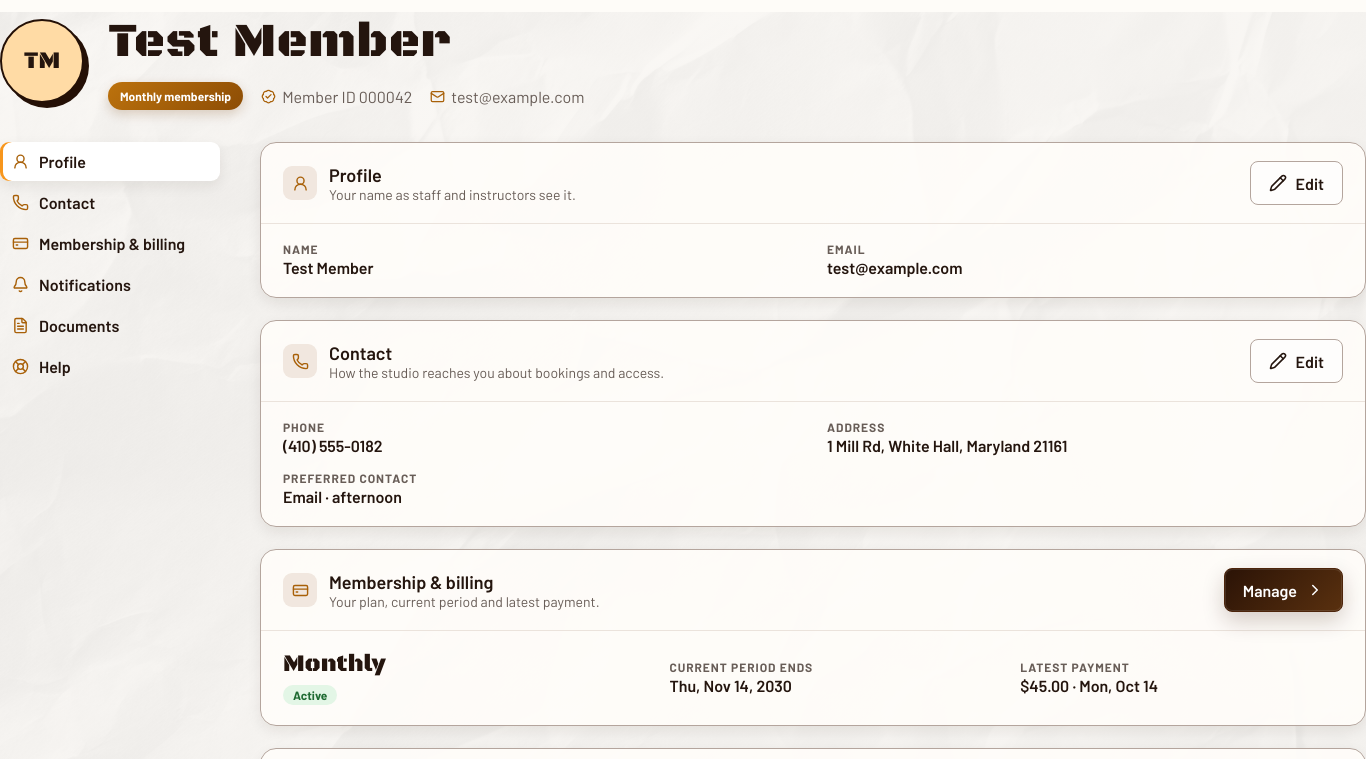
Test: a failed save keeps the form open with the error and claims nothing
Click the button with aria-label "Edit profile". click: (1296,183)
box: left=1250, top=161, right=1343, bottom=205
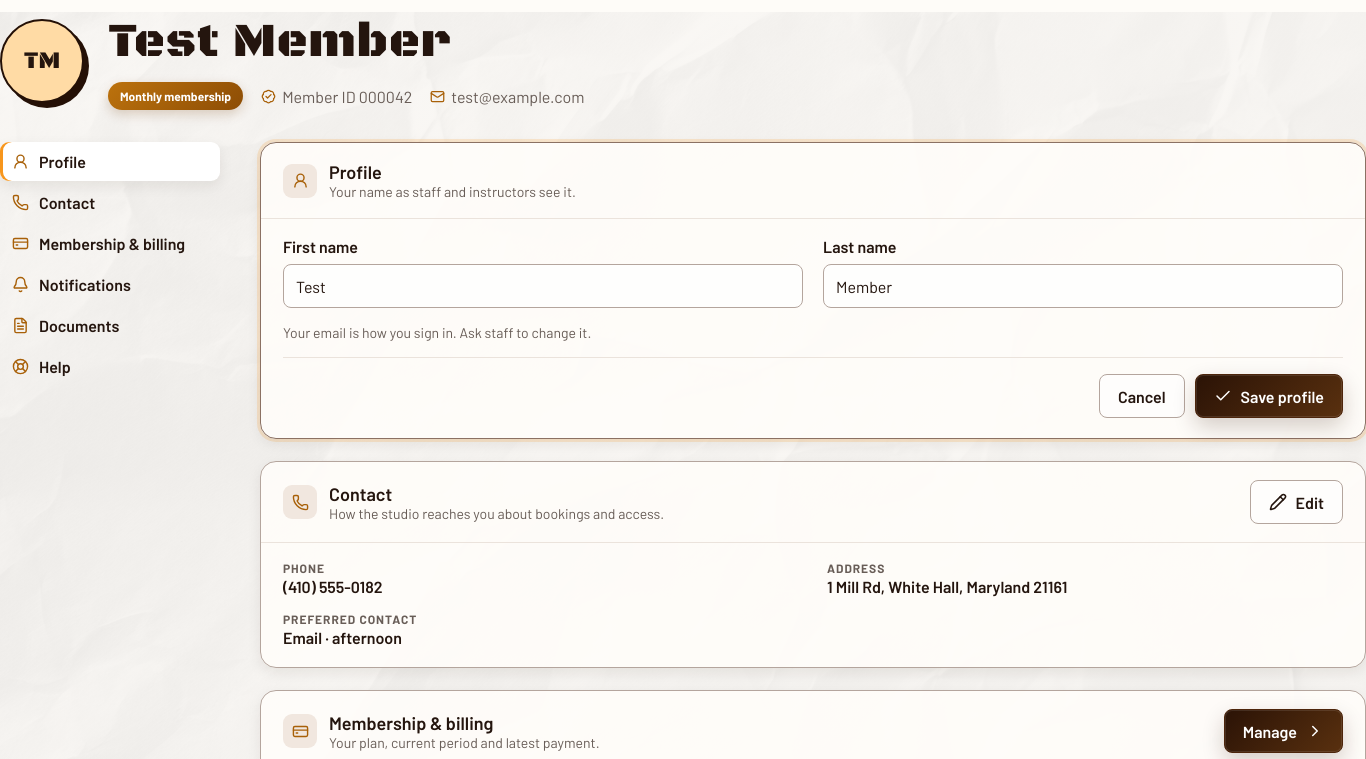
Click the button "Save profile". click: (1269,396)
box: left=1195, top=374, right=1343, bottom=418
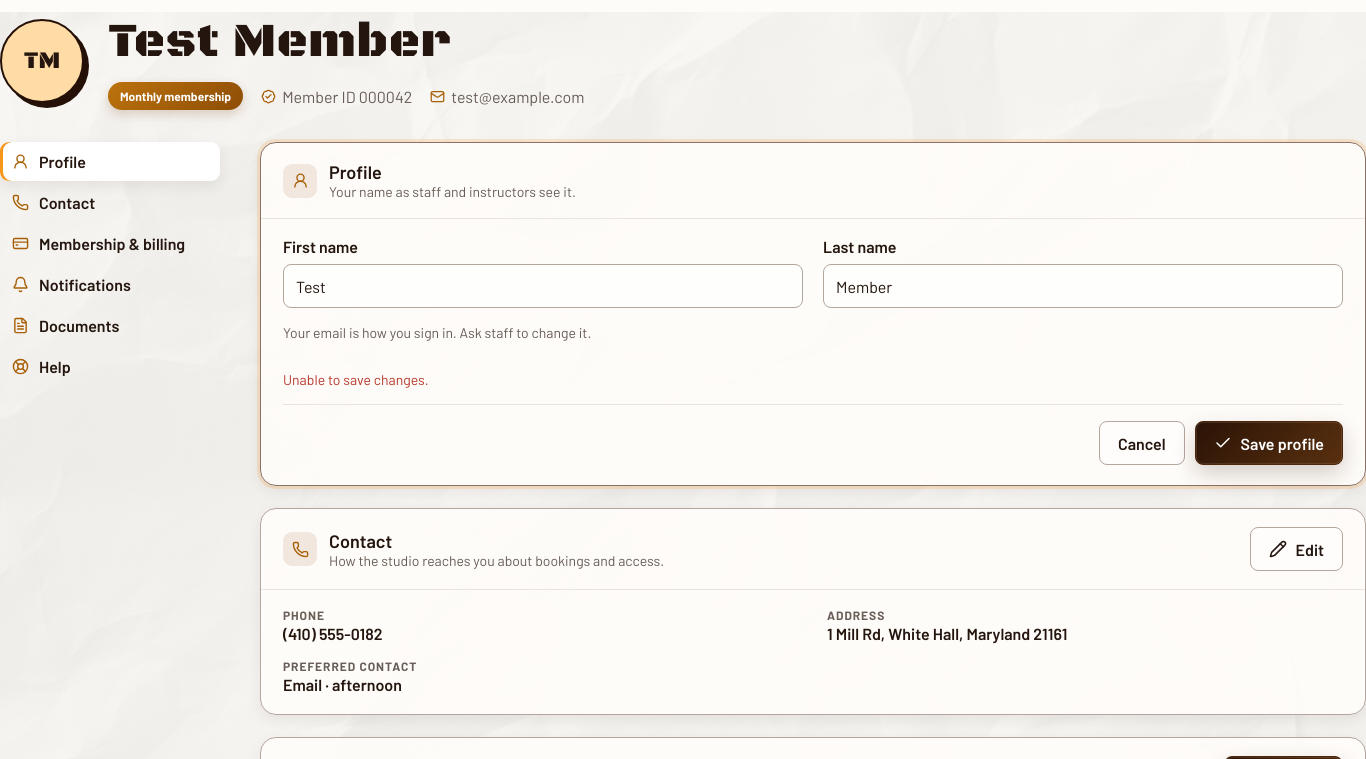
Expected: the button "Save profile" is shown, left=1195, top=421, right=1343, bottom=465
Expected: the message reads "Unable to save changes.", left=283, top=371, right=429, bottom=388
